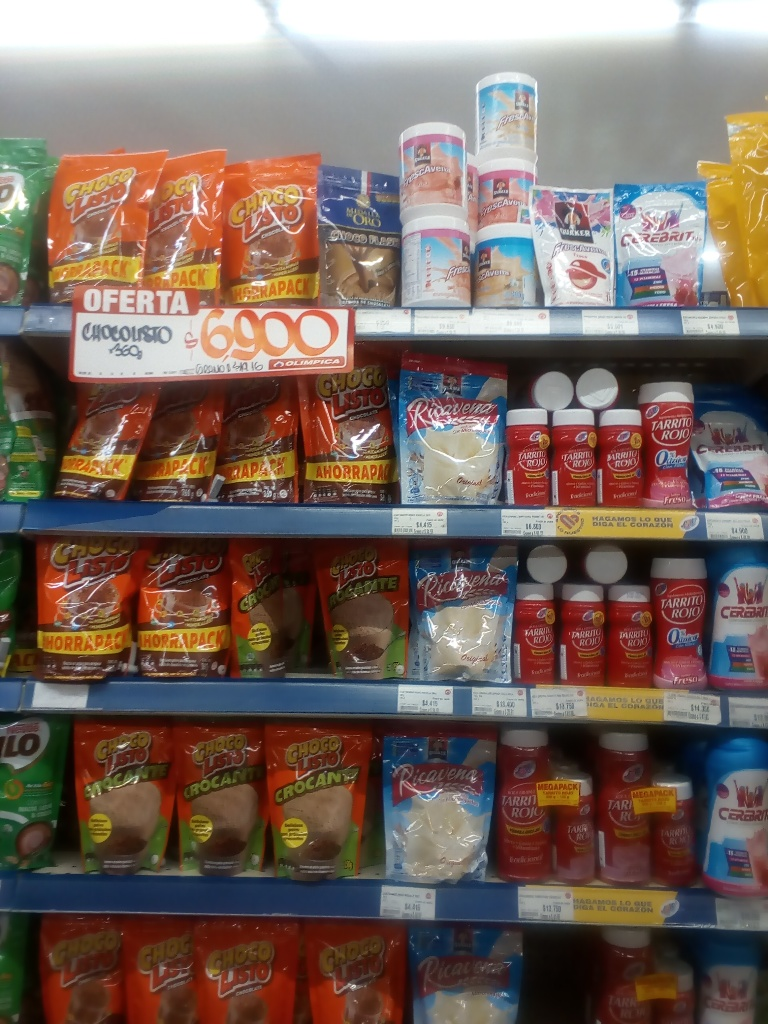COL0170102DYP25000: (310, 536, 409, 682)
COL0170103DYP20000: (30, 913, 127, 1024)
COL0170103DYP36000: (225, 149, 321, 307)
COL0170203DYP25000: (0, 716, 73, 873)
